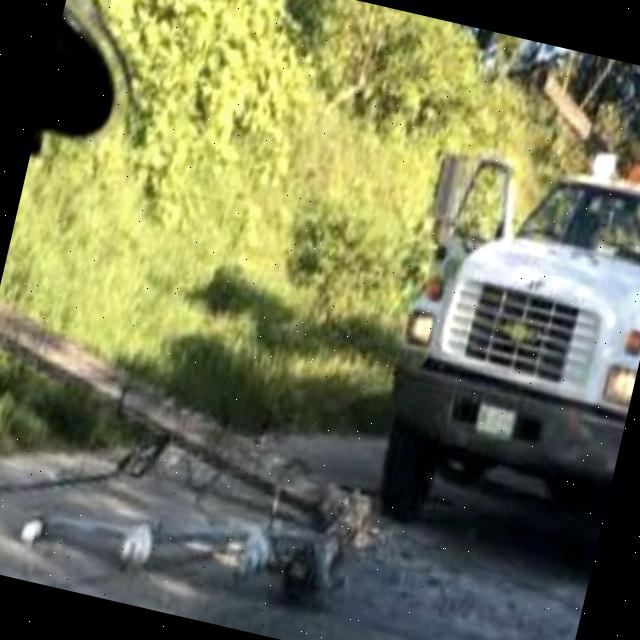Broken Pole: (0, 293, 383, 624)
